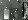person: (24, 3, 28, 20), (14, 6, 20, 17), (5, 7, 10, 19)
